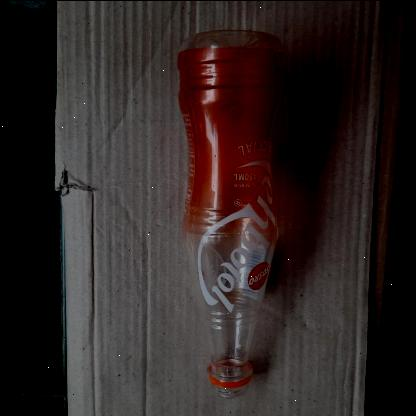Plastic Bottle: (180, 27, 284, 396)
